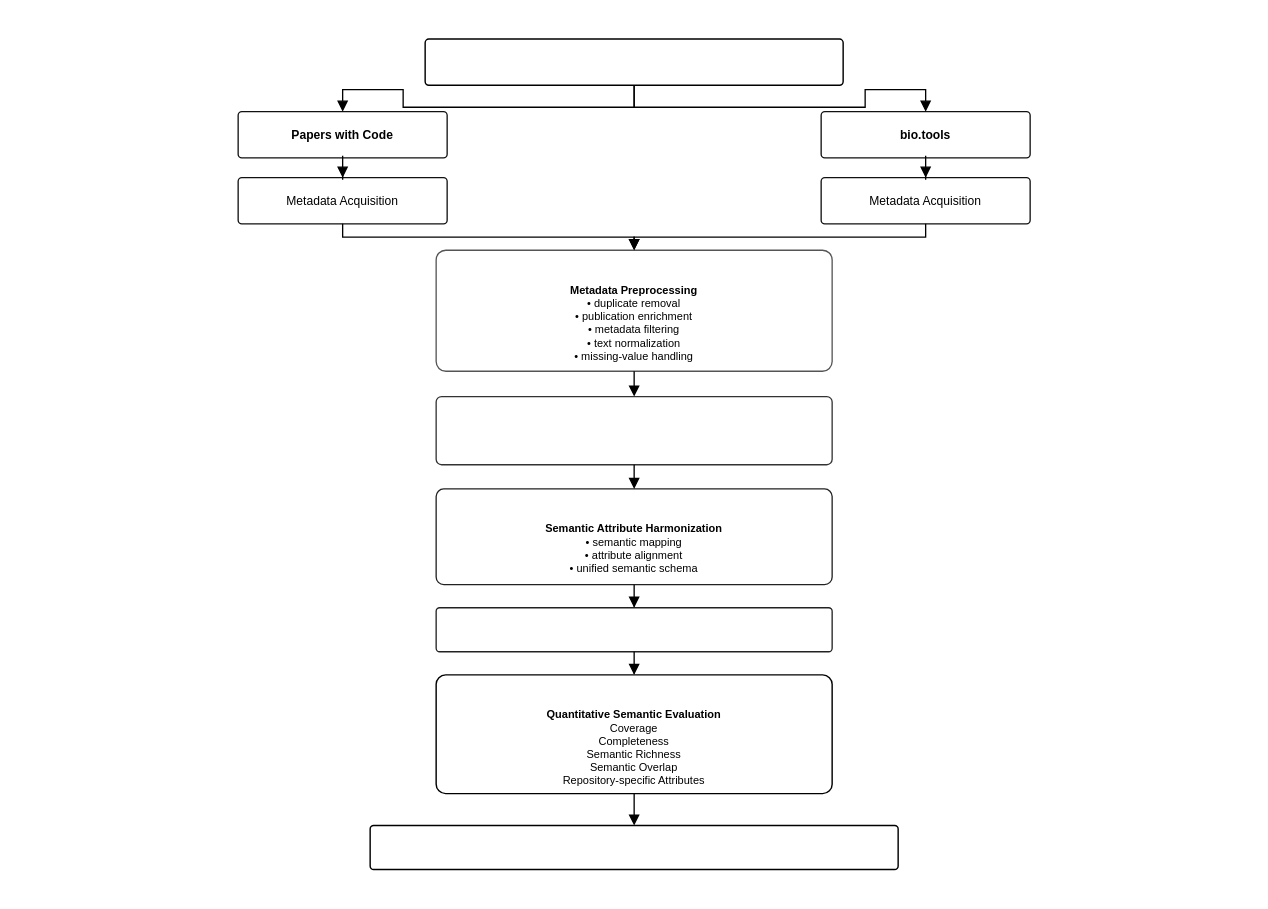
Image size: 1268x909. Some labels were removed from this diagram. The centre of each missing label's shape, as x and y in pixels:
Comparative Analysis for Research Software Classification: pixel 633 847
Repository-specific Metadata PwC metadata bio.tools metadata: pixel 633 430
Research Software Repositories: pixel 633 61
Unified Semantic Representation: pixel 633 629
